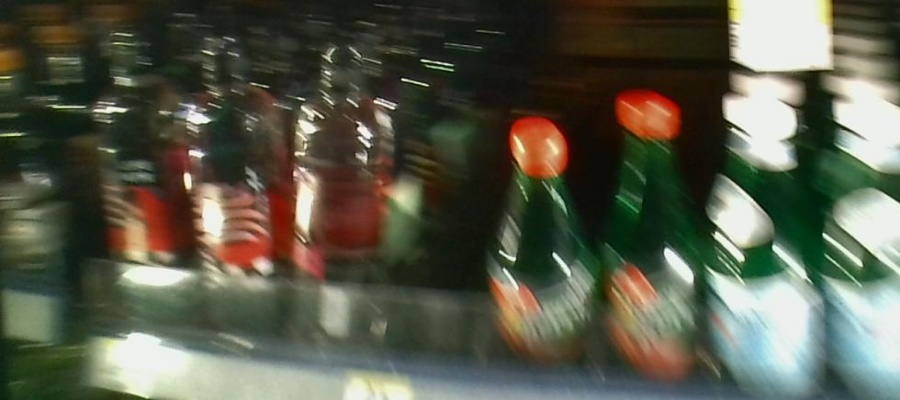bottle: (703, 88, 828, 395), (295, 37, 397, 360), (189, 30, 286, 337), (488, 111, 599, 379), (91, 26, 185, 331), (604, 93, 700, 385)
